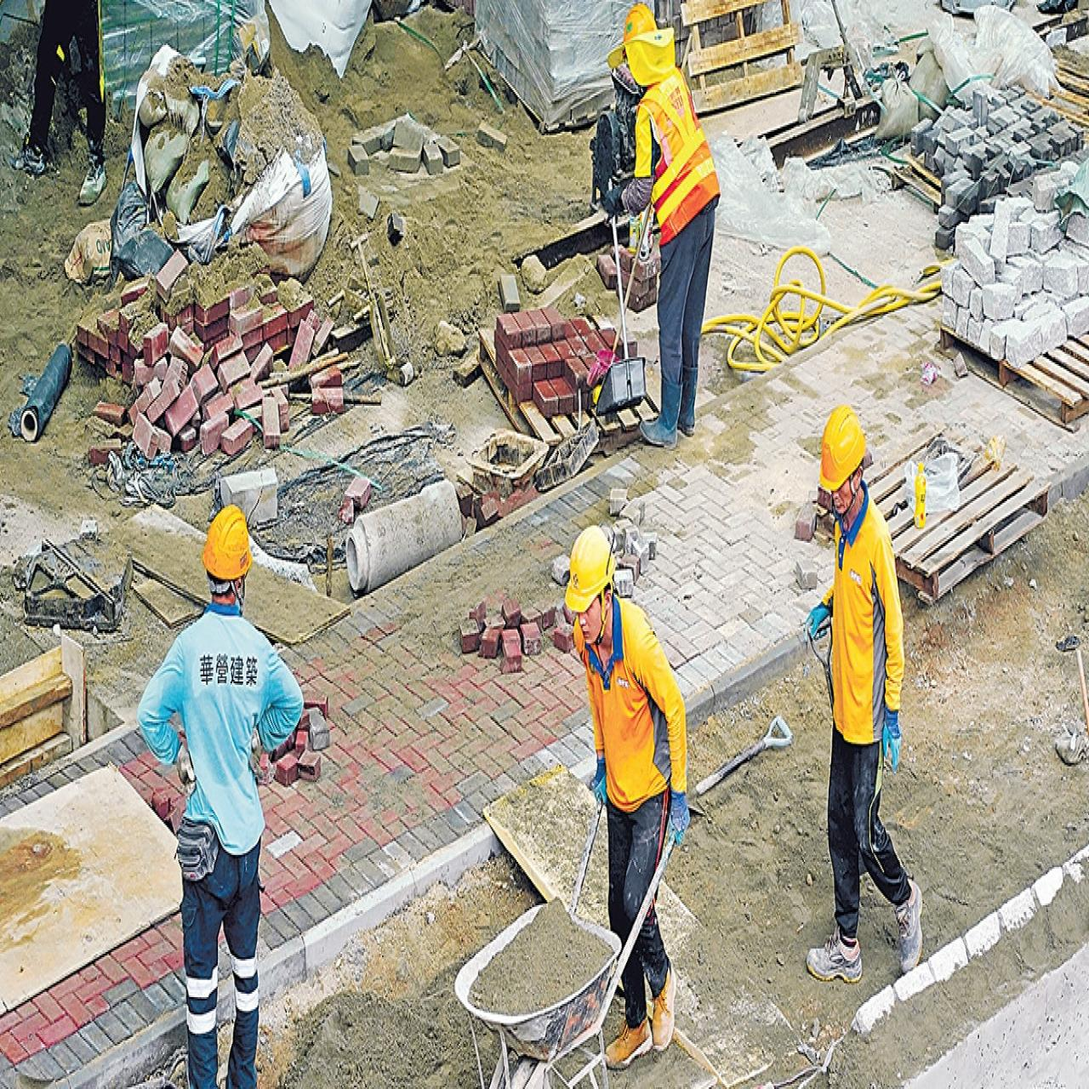NO_Safety_Vest: (573, 603, 676, 824), (178, 615, 269, 856), (829, 507, 902, 743)
Person: (133, 496, 318, 1089), (797, 385, 948, 1001), (556, 505, 693, 1065), (598, 0, 733, 451), (16, 0, 108, 201)
Safety_Vest: (632, 70, 721, 258)
